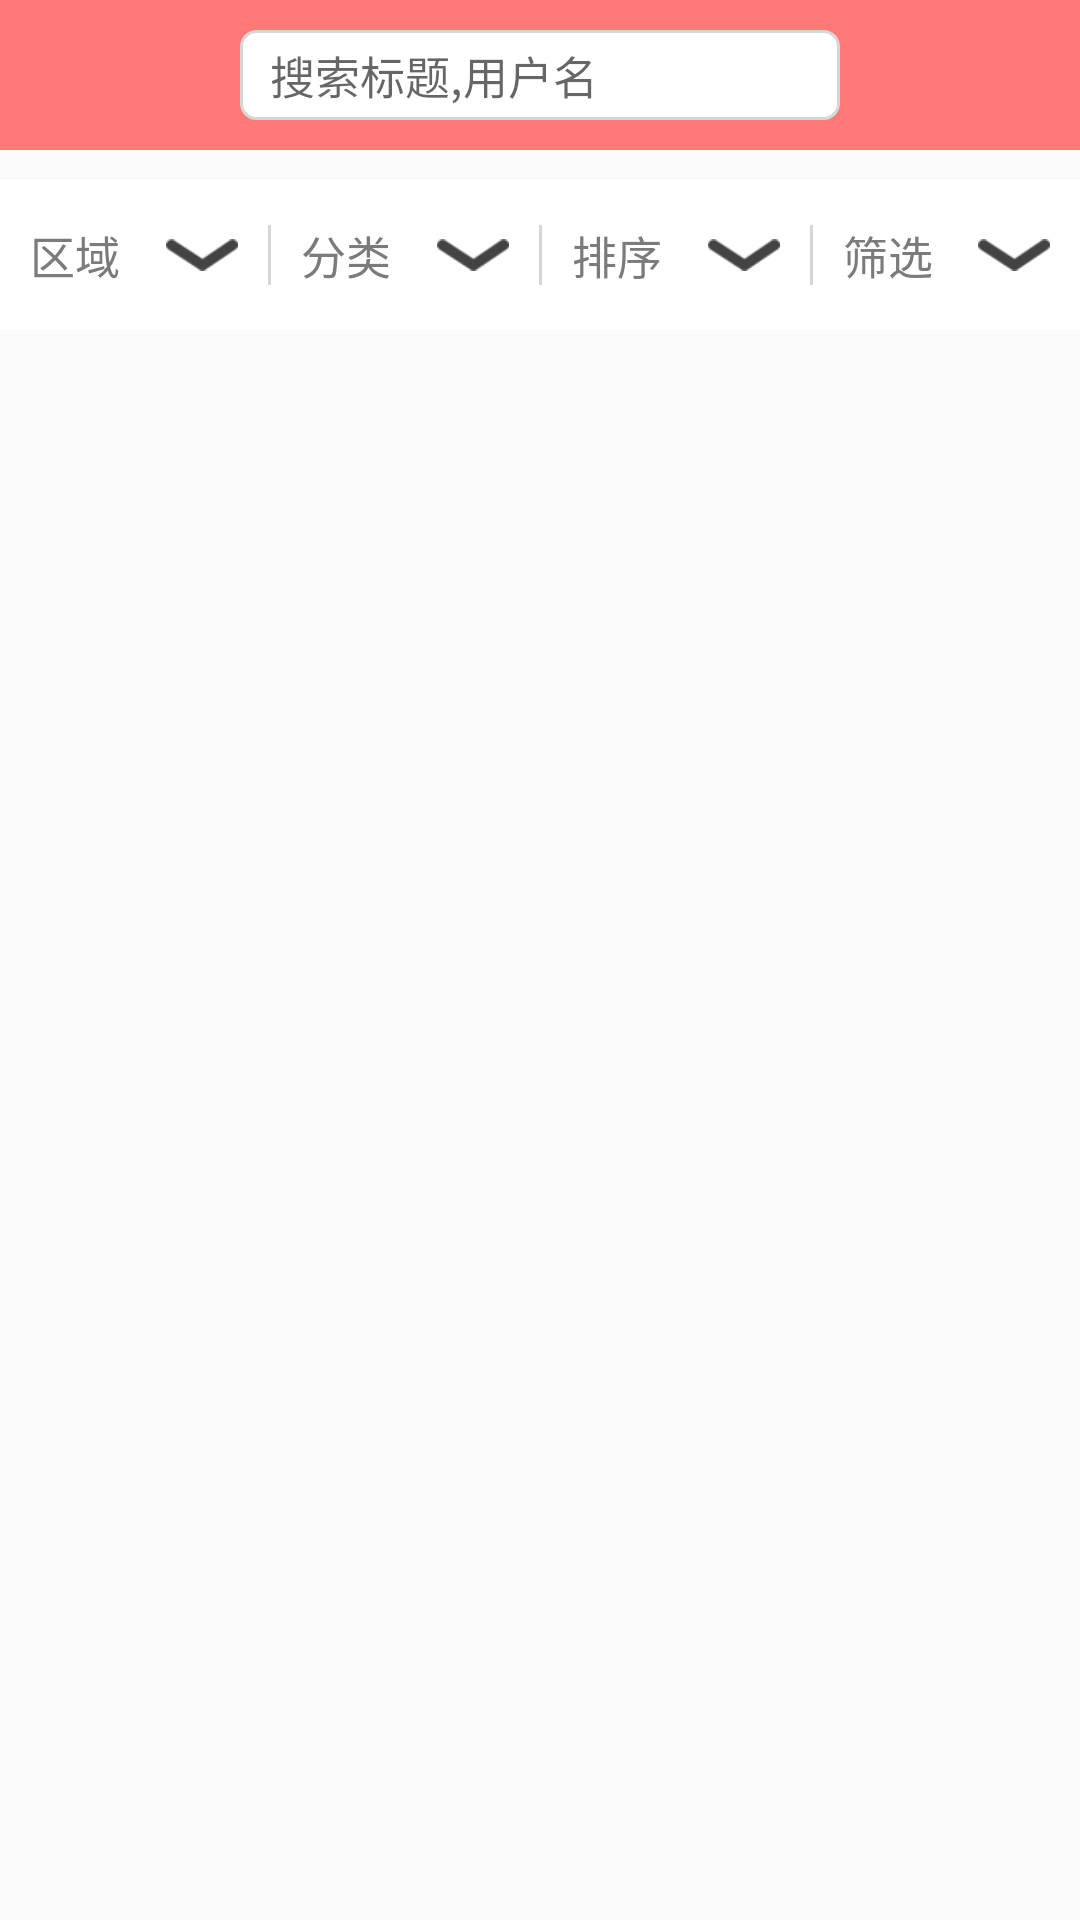

Named icons in this screenshot (1080x1920) and their centers, (x=x, y=y):
arrow down: (x=202, y=255), (x=473, y=255), (x=744, y=255), (x=1014, y=255)
